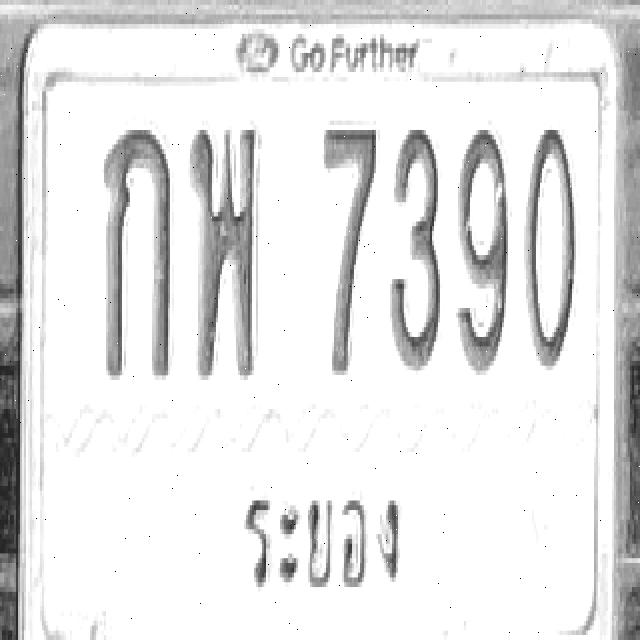0: (523, 122, 577, 368)
10GorGai: (102, 122, 172, 378)
3: (389, 125, 441, 371)
39PhorPan: (189, 118, 259, 378)
7: (322, 120, 378, 376)
9: (456, 125, 508, 371)
Rayong: (236, 470, 414, 612)
